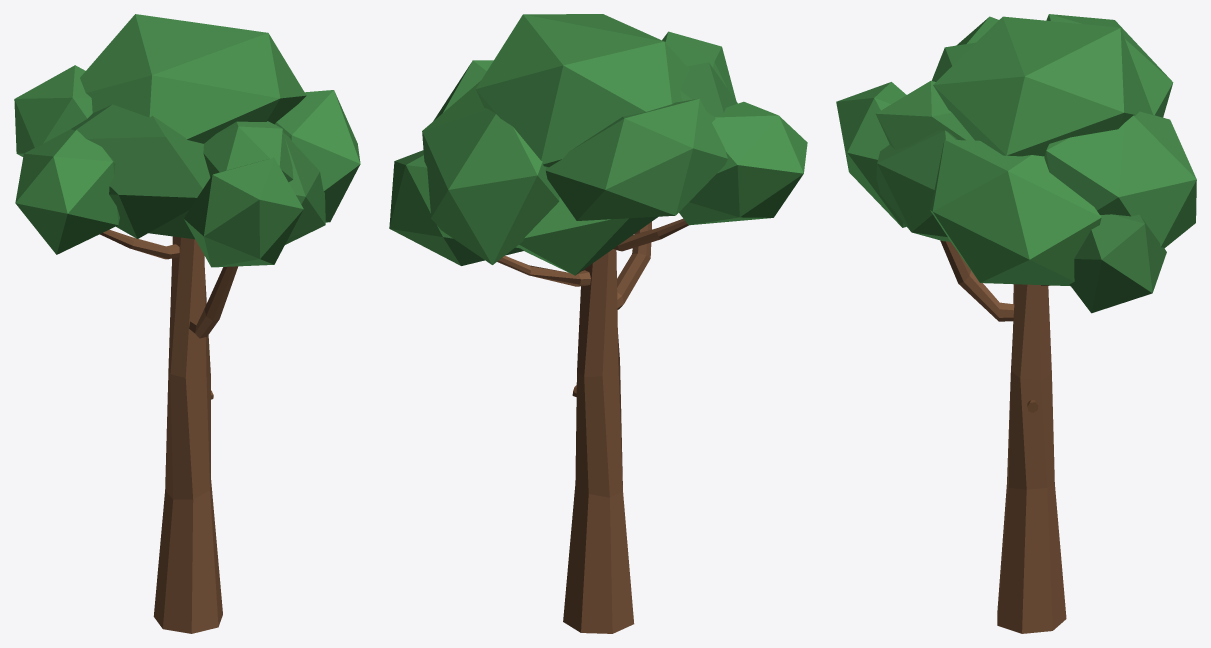
File: tree_02.fbx
The picture shows the model from 3 angles, left to right: view 1: azimuth 30°, elevation 25°; view 2: azimuth 150°, elevation 25°; view 3: azimuth 270°, elevation 25°; orthographic projection. The views are drawn at different scales.
Visible parts, largest first — view 1: Cylinder.014; view 2: Cylinder.014; view 3: Cylinder.014.
Boxes of the visible parts, bbox=[...] form: Cylinder.014: bbox=[14, 14, 360, 633]; Cylinder.014: bbox=[389, 14, 807, 633]; Cylinder.014: bbox=[836, 14, 1196, 633].
Size of the model in its own units: 5.64 by 8.73 by 4.86.
